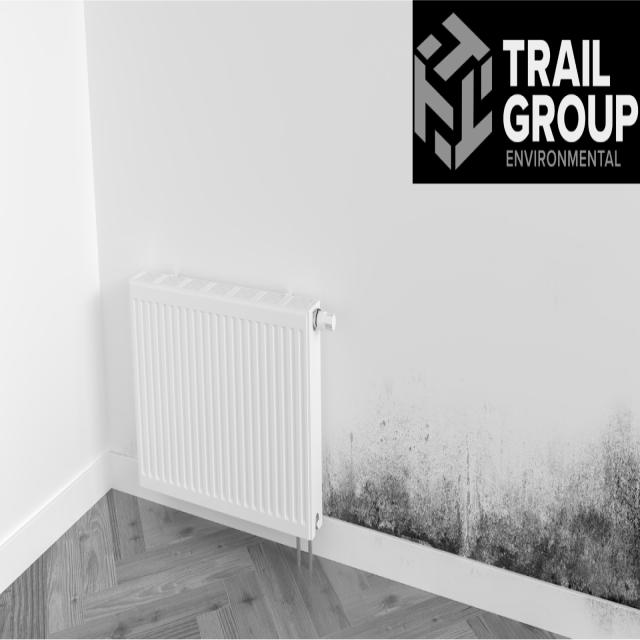stain marks: (324, 406, 640, 638)
